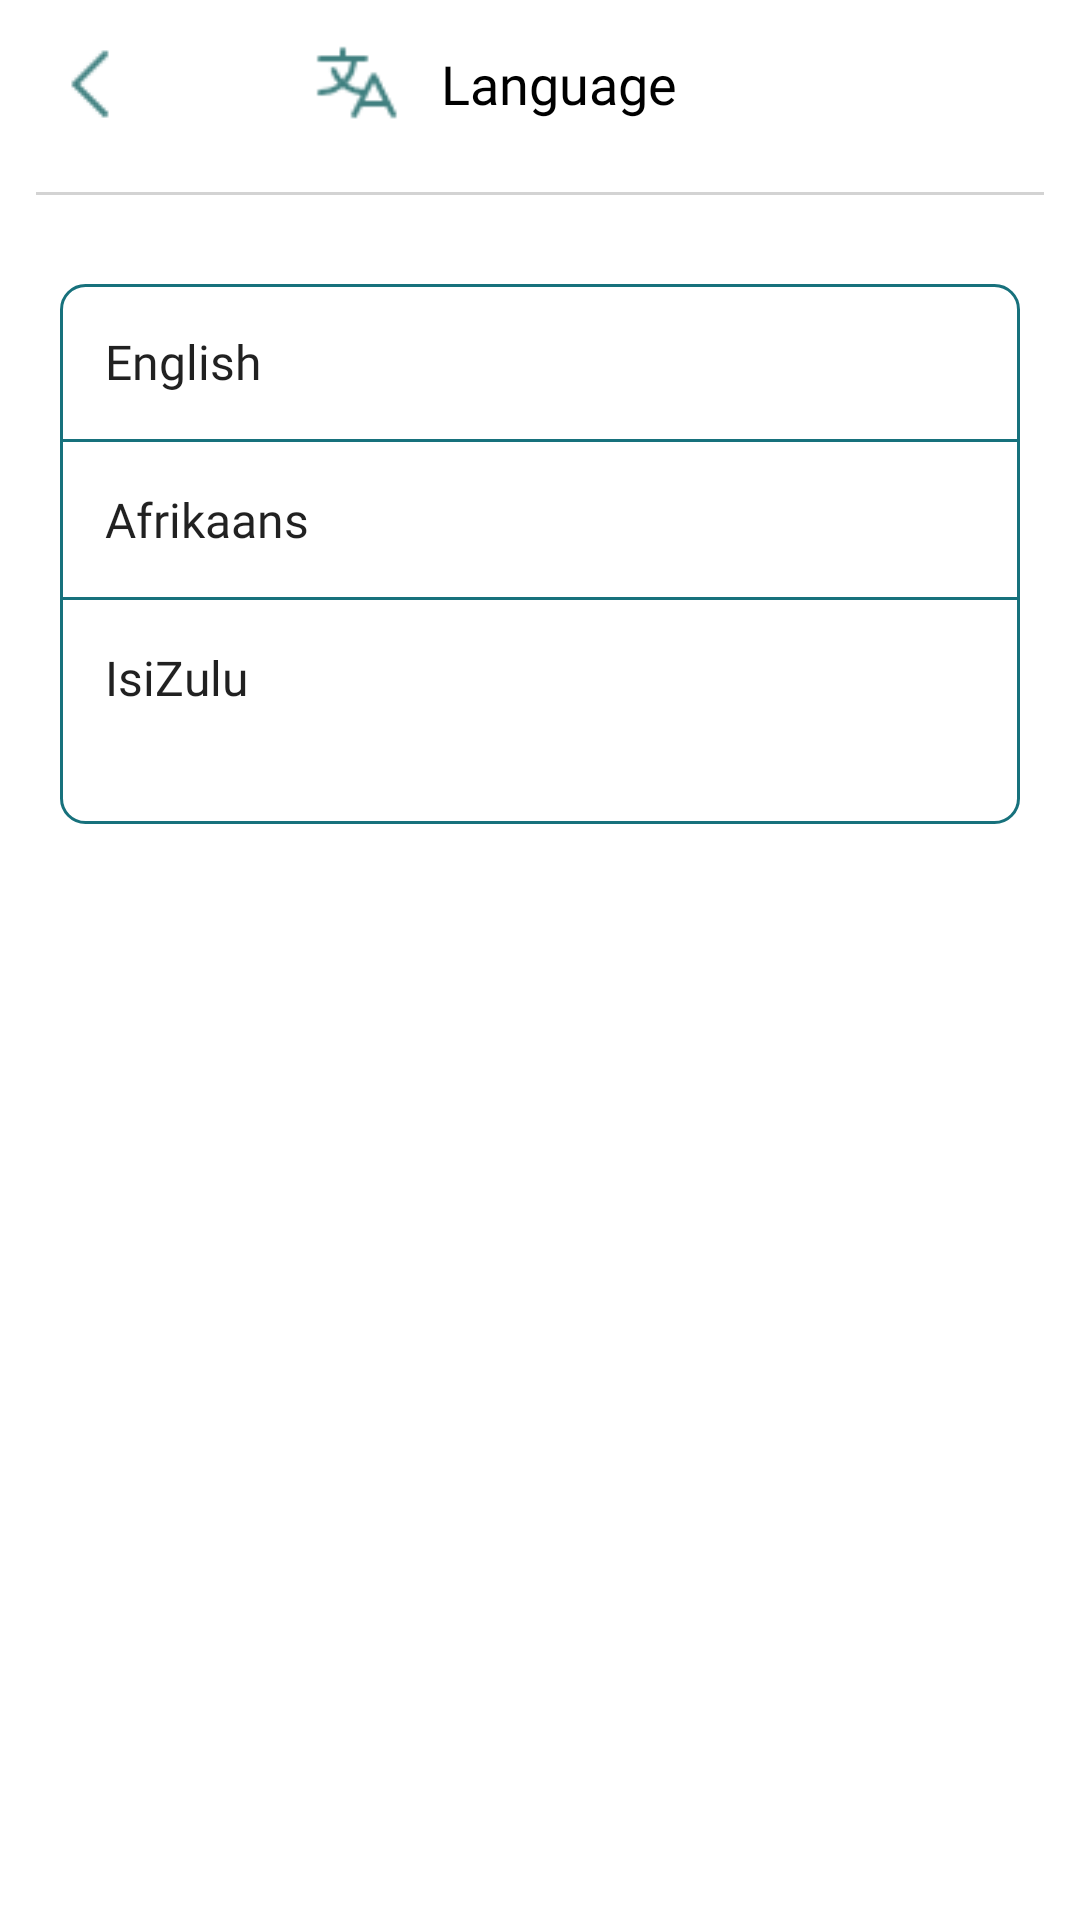

Icons on this 1080x1920 Android screen, each with its box as bbox=[x1, y1, x2, y2]:
arrow left: bbox=[71, 50, 109, 118]
langauage: bbox=[316, 47, 397, 119]
